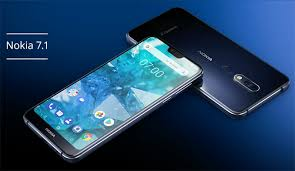nokia: (20, 37, 205, 167)
